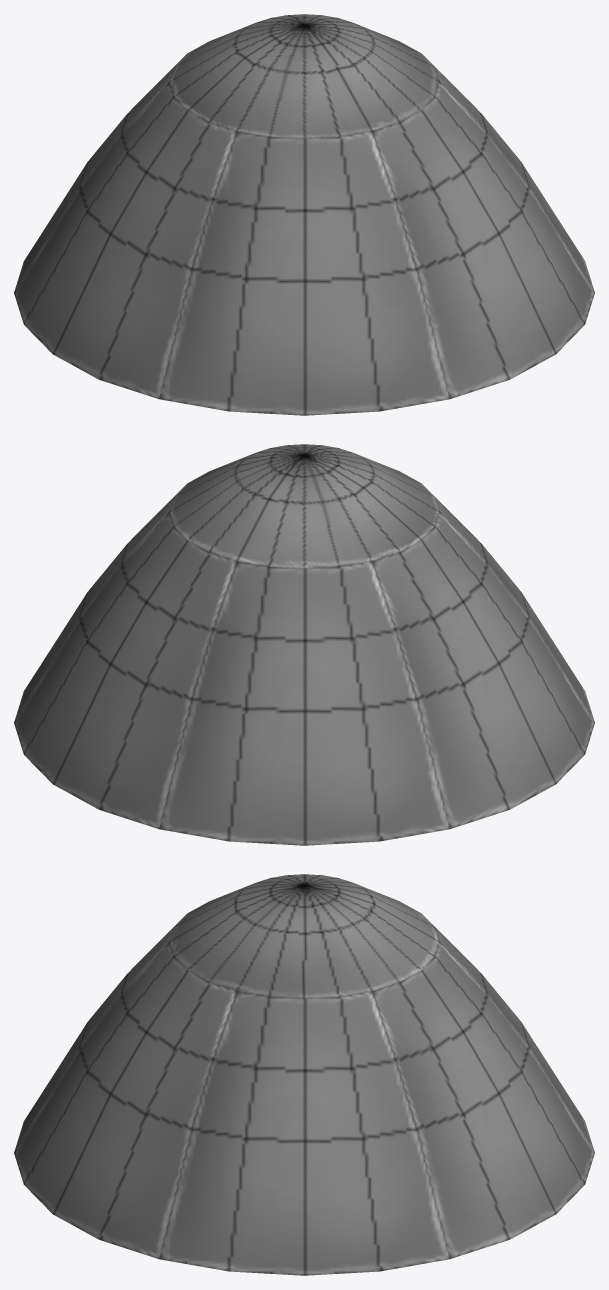
Rendered from Apollo_Block1_Nose.dae.
The picture shows the model from 3 angles, top to bottom: view 1: azimuth 30°, elevation 25°; view 2: azimuth 150°, elevation 25°; view 3: azimuth 270°, elevation 25°; orthographic projection.
Parts seen in each view (by area): view 1: Block1Nose; view 2: Block1Nose; view 3: Block1Nose.
Boxes of the visible parts, box(x1,y1,x2,y2) form: Block1Nose: box(14, 14, 594, 415); Block1Nose: box(14, 444, 594, 845); Block1Nose: box(14, 874, 594, 1275).
Size of what is drawn, in the model's own units: 0.954 by 0.4853 by 0.954.
